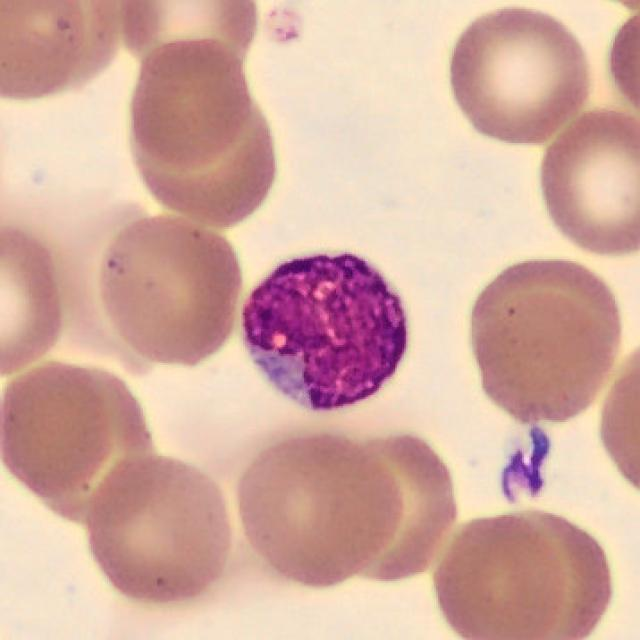Linfocito: (243, 254, 406, 408)
